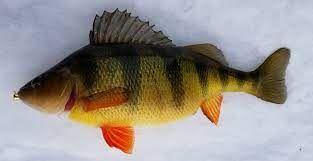Perch: (18, 7, 294, 155)
